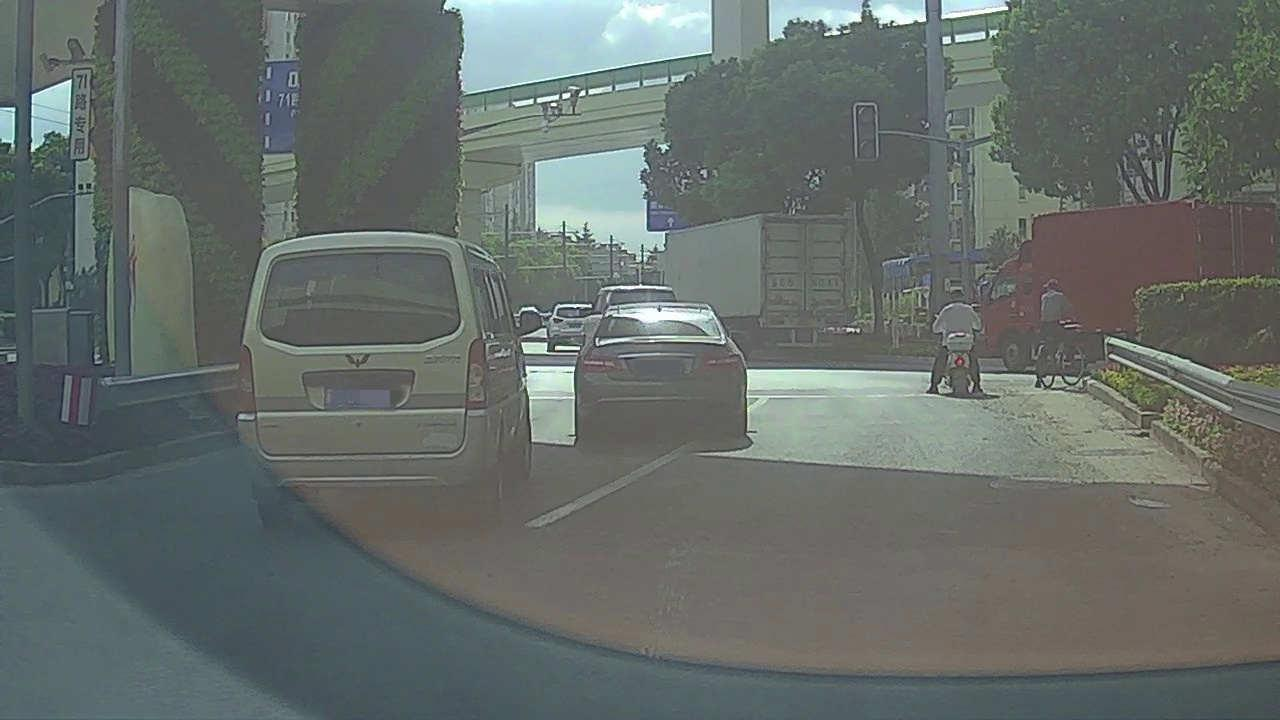traffic_light: (852, 103, 880, 158)
